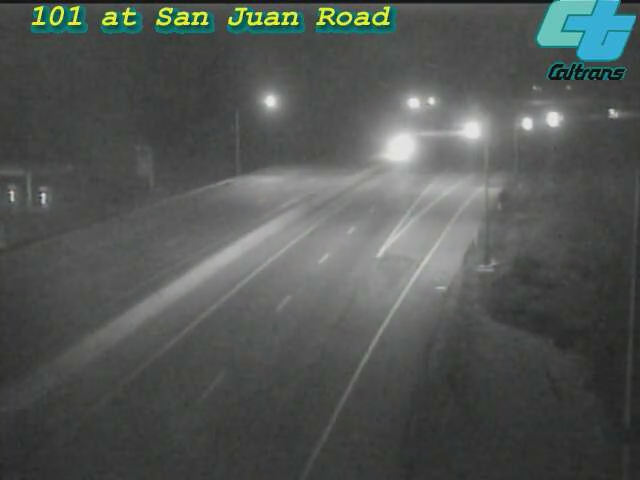vehicle: (589, 89, 639, 139), (372, 120, 422, 170), (451, 105, 501, 155), (504, 98, 554, 148), (527, 94, 577, 144)
